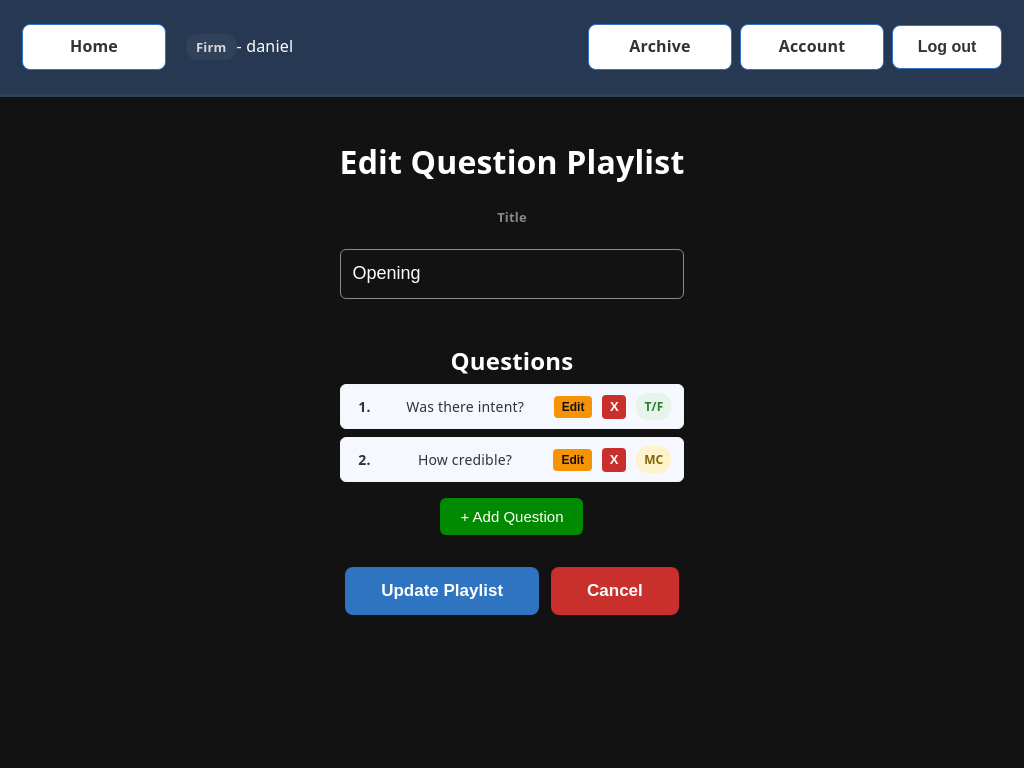
it: EditPlaylistScreen local edits (spec 022) › edits a question in local state only
This screenshot has width=1024, height=768.
Check: the heading "Edit Question Playlist" is shown, box x1=340 y1=150 x2=684 y2=174
Click the button "Edit" next to "Was there intent?" at (573, 407), box x1=554 y1=396 x2=592 y2=418
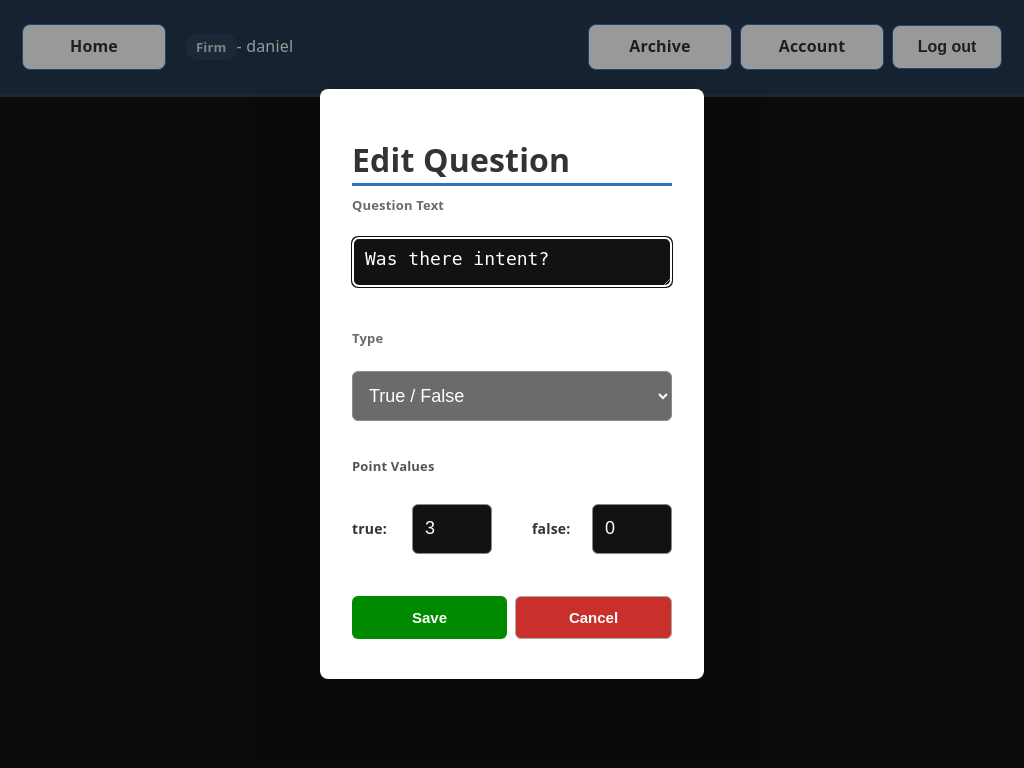
Replace the text in the text box labelled "Question Text" with "Was there clear intent?" at (512, 262), box x1=352 y1=237 x2=672 y2=287
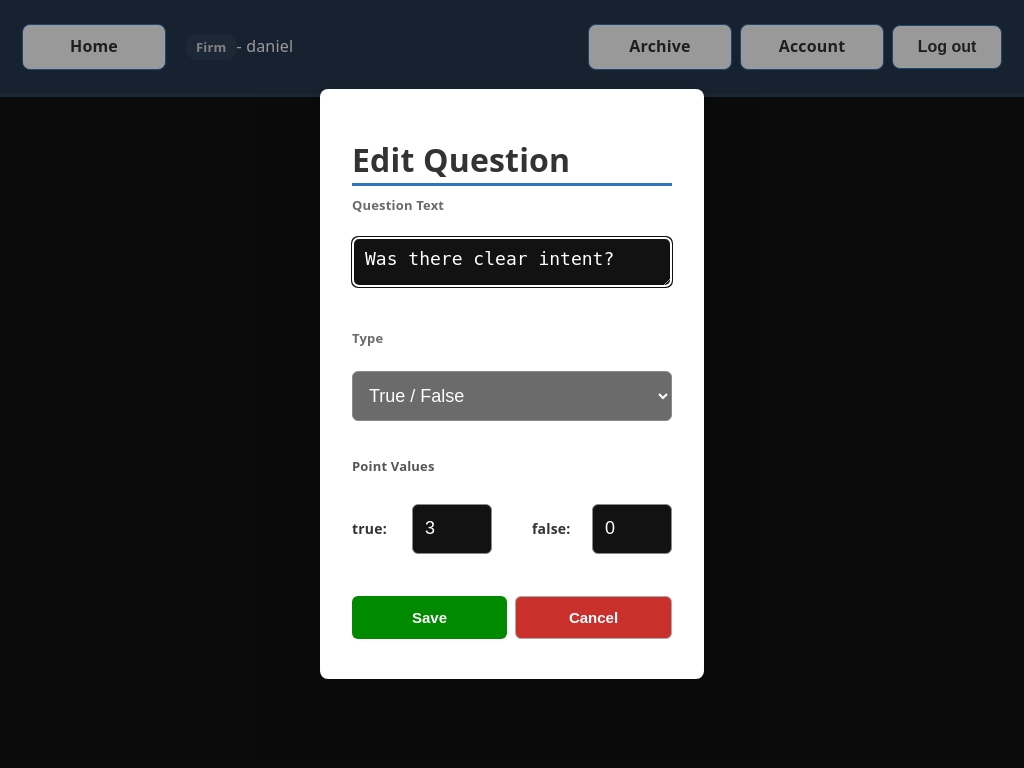
Click the button "Save" at (430, 617), box x1=352 y1=596 x2=507 y2=639
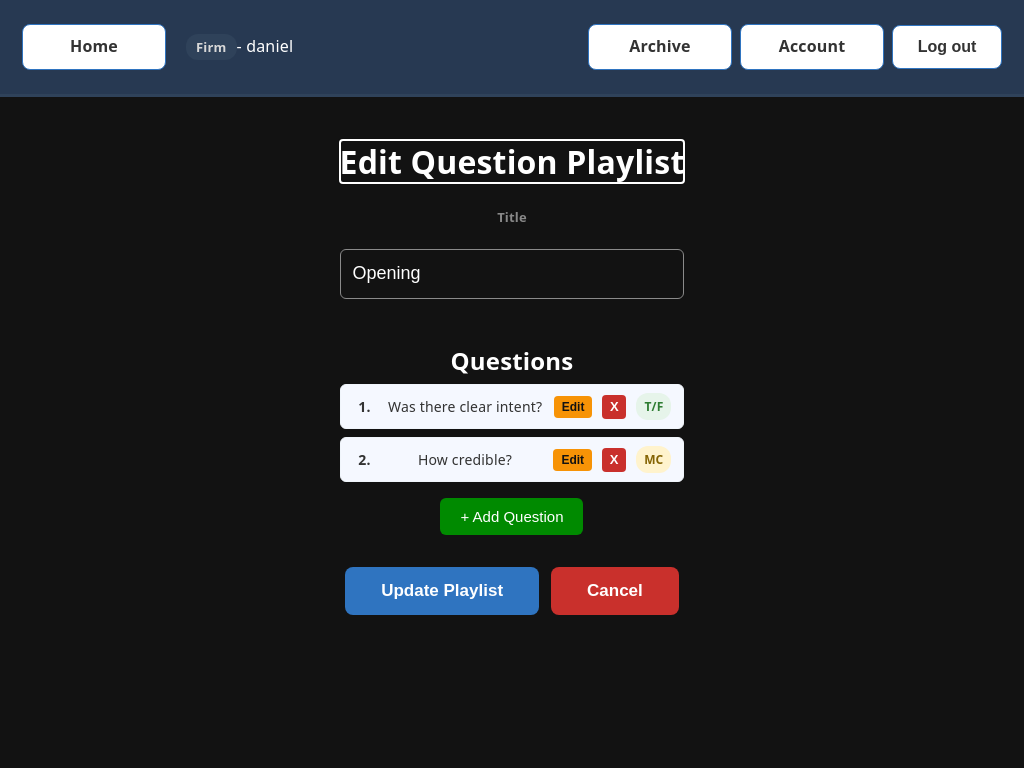
Check: the text "Was there clear intent?" is shown, box x1=386 y1=395 x2=544 y2=418
